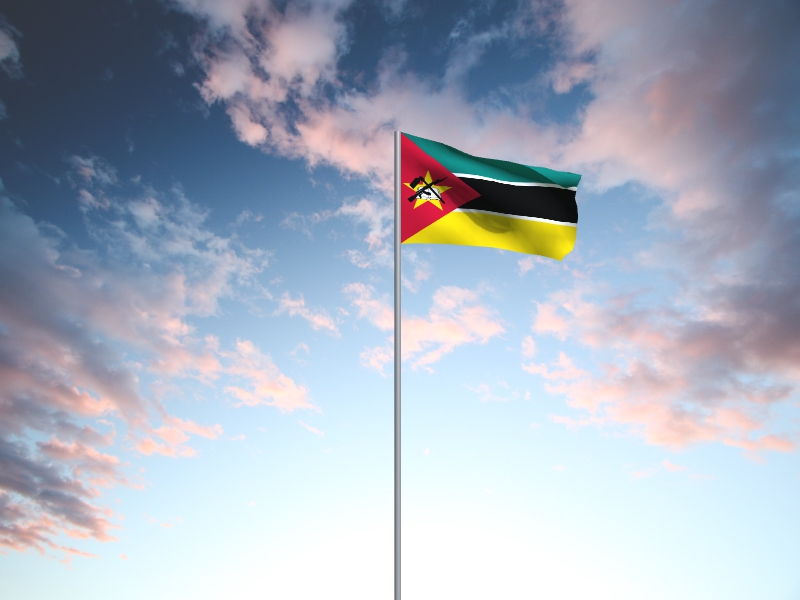mz: (402, 133, 584, 263)
